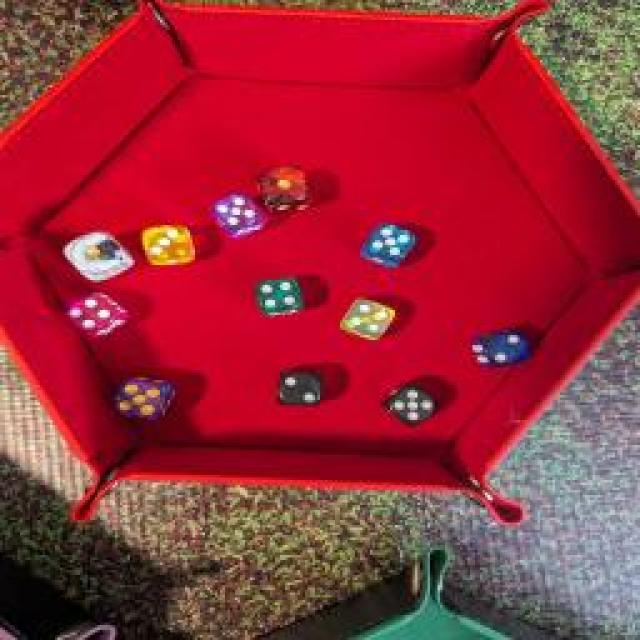dice_1: (61, 232, 141, 282), (250, 161, 315, 214)
dice_2: (270, 365, 328, 410), (469, 328, 531, 370)
dice_3: (139, 220, 201, 265)
dice_4: (58, 290, 130, 342), (335, 295, 403, 345), (249, 275, 309, 317)
dice_5: (110, 372, 172, 426), (354, 220, 421, 268), (381, 382, 439, 426), (208, 193, 268, 235)
